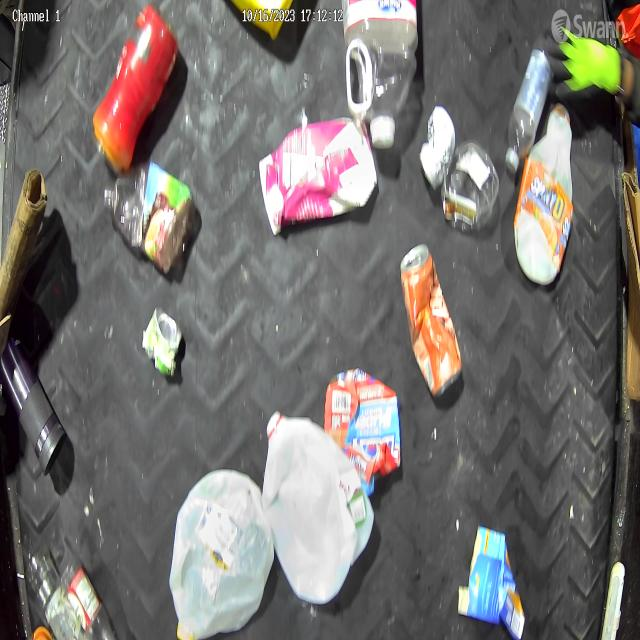can: (398, 245, 464, 399), (144, 312, 187, 382)
milk_jug: (264, 404, 378, 606), (162, 468, 273, 640)
plastic_bottle: (494, 46, 554, 182)
